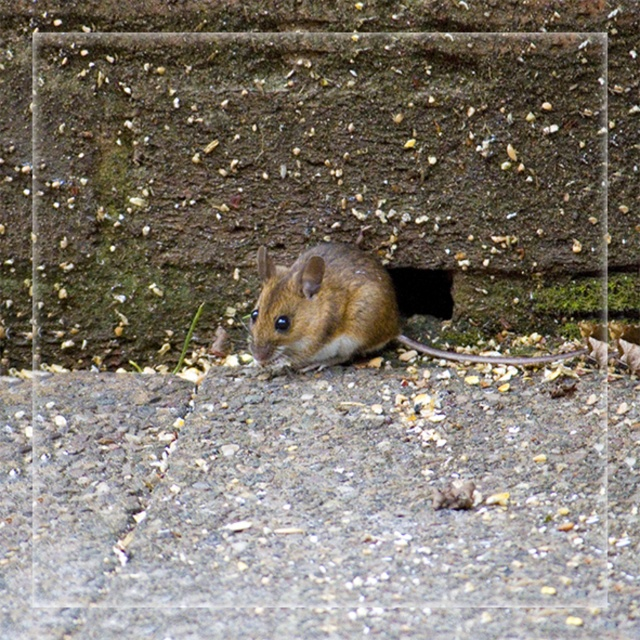Mouse: (240, 236, 407, 374)
